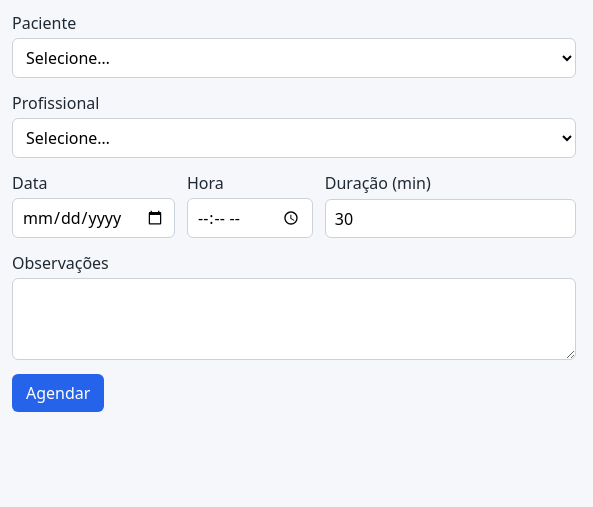
Scenario: AppointmentForm shows the error the API sends back › shows a business-rule message (409) and lets the user try again
Step 1. Select "Paciente Teste 11" in the dropdown labelled "Paciente" → (294, 58), box [12,38,576,78]
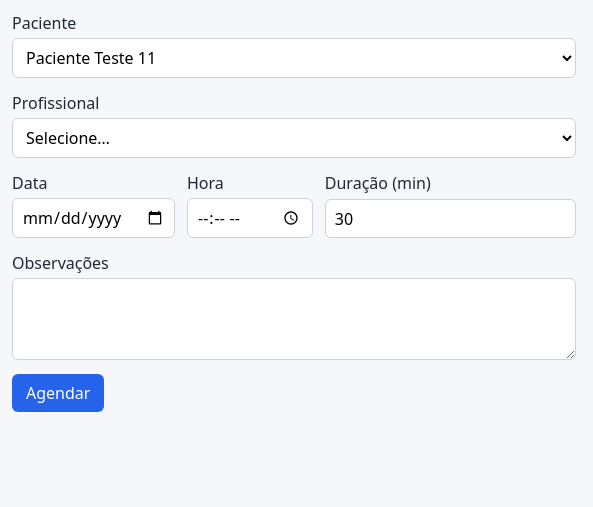
Step 2. Select "Profissional Teste A — Clínica geral" in the dropdown labelled "Profissional" → (294, 138), box [12,118,576,158]
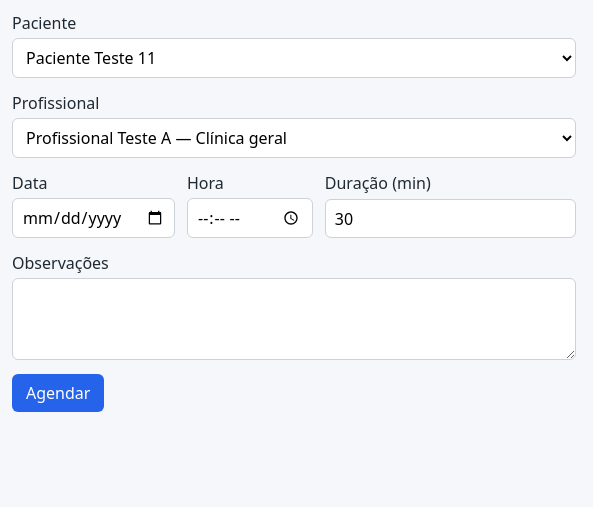
Step 3. Type "2026-11-19" into the date field labelled "Data" → (94, 218), box [12,198,175,238]
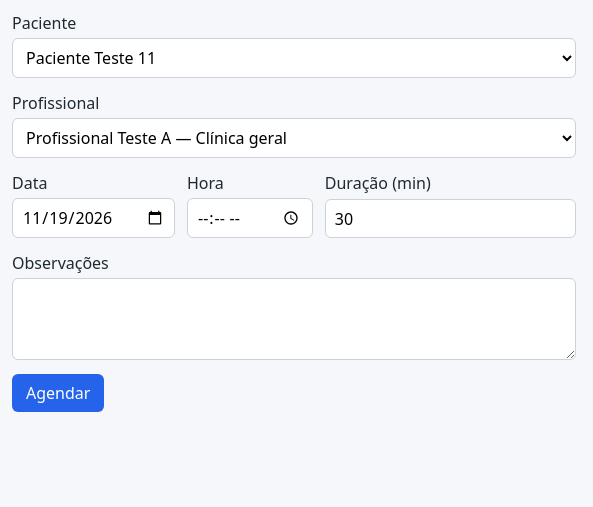
Step 4. Type "09:40" into the time field labelled "Hora" → (250, 218), box [187,198,313,238]
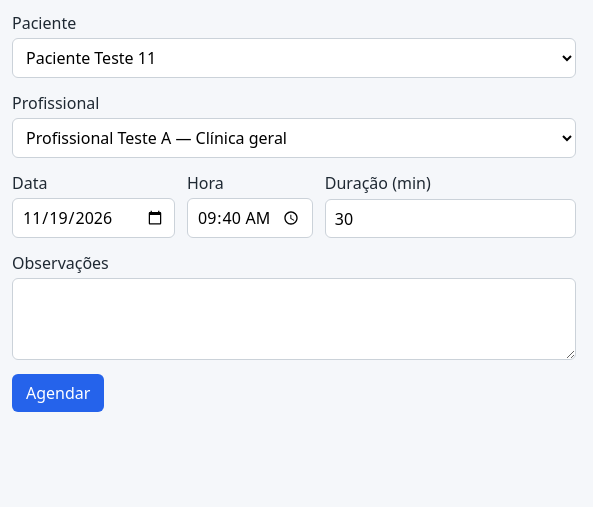
Step 5. Click the button "Agendar" → click(58, 393), box [12,374,104,412]
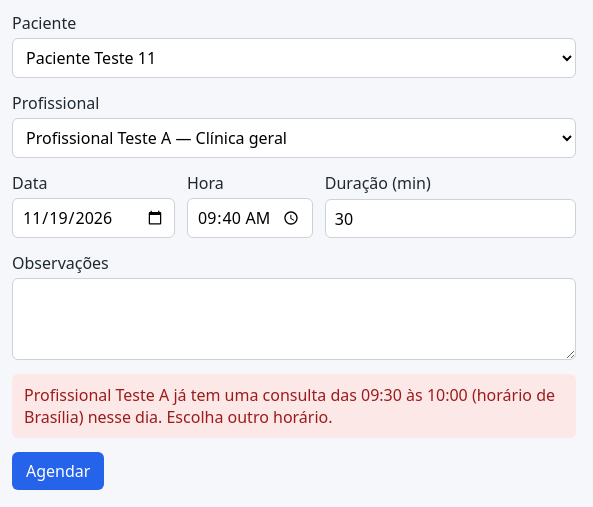
Check: the button "Agendar" is enabled, box [12,452,104,490]
Check: the message shows "Profissional Teste A já tem uma consulta das 09:30 às 10:00 (horário de Brasília) nesse dia. Escolha outro horário.", box [24,384,555,428]
